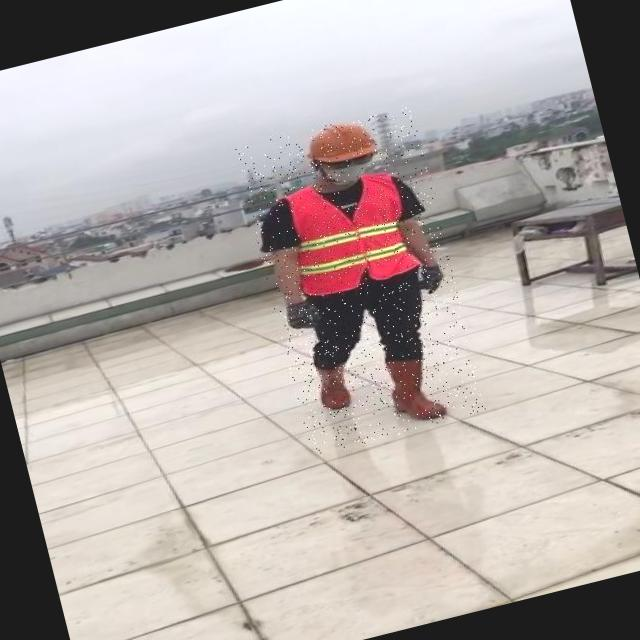boots: (382, 345, 452, 427), (308, 356, 356, 414)
gloves: (414, 256, 460, 308), (282, 288, 322, 344)
helmet: (296, 114, 380, 171)
vest: (281, 164, 422, 296)
